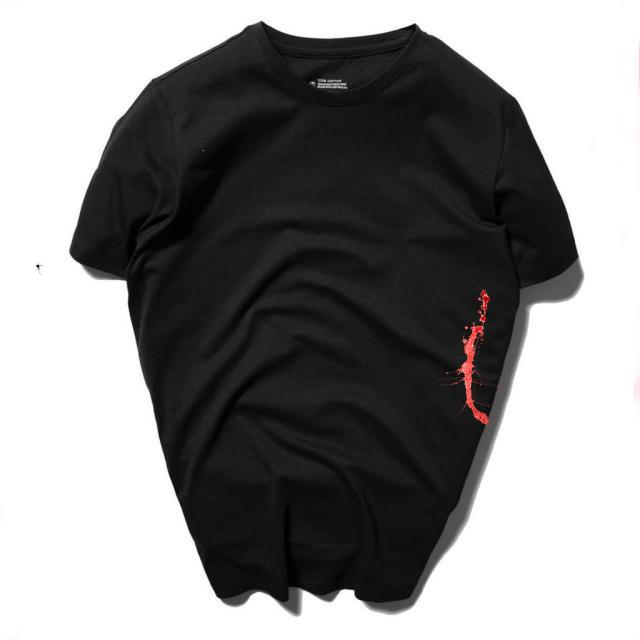stain: (448, 285, 491, 432)
